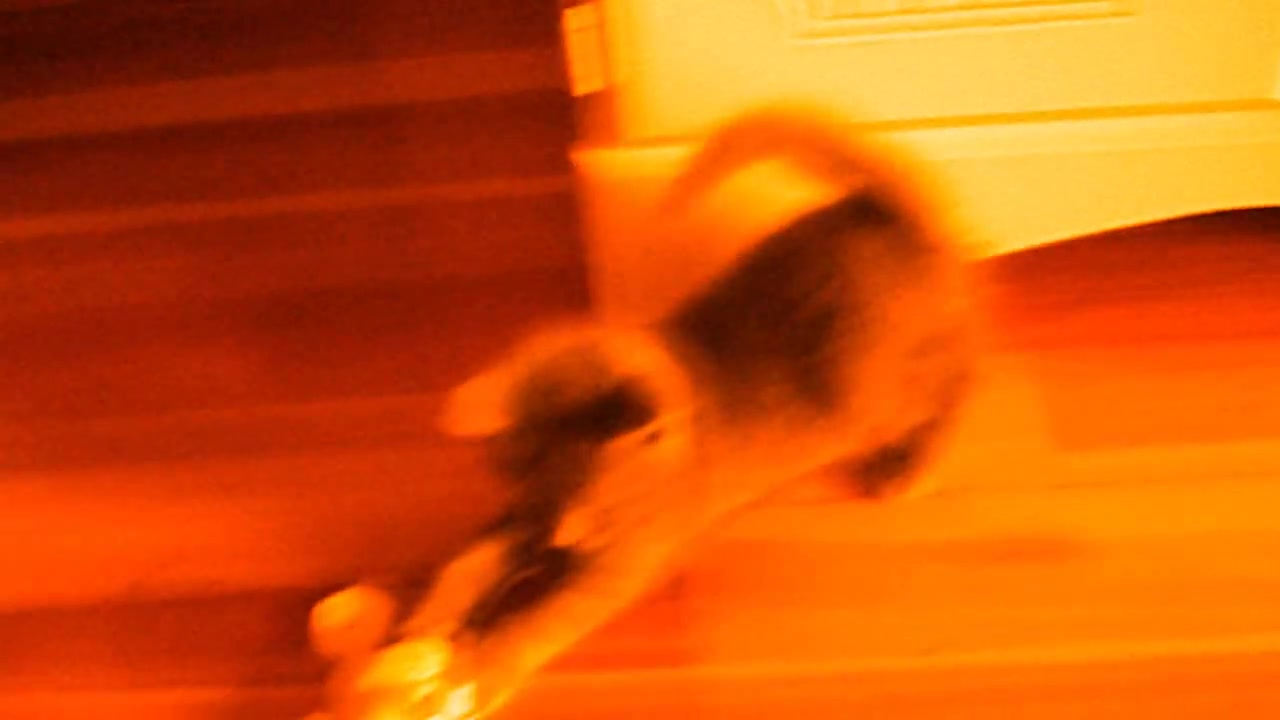cat: (387, 98, 980, 718)
